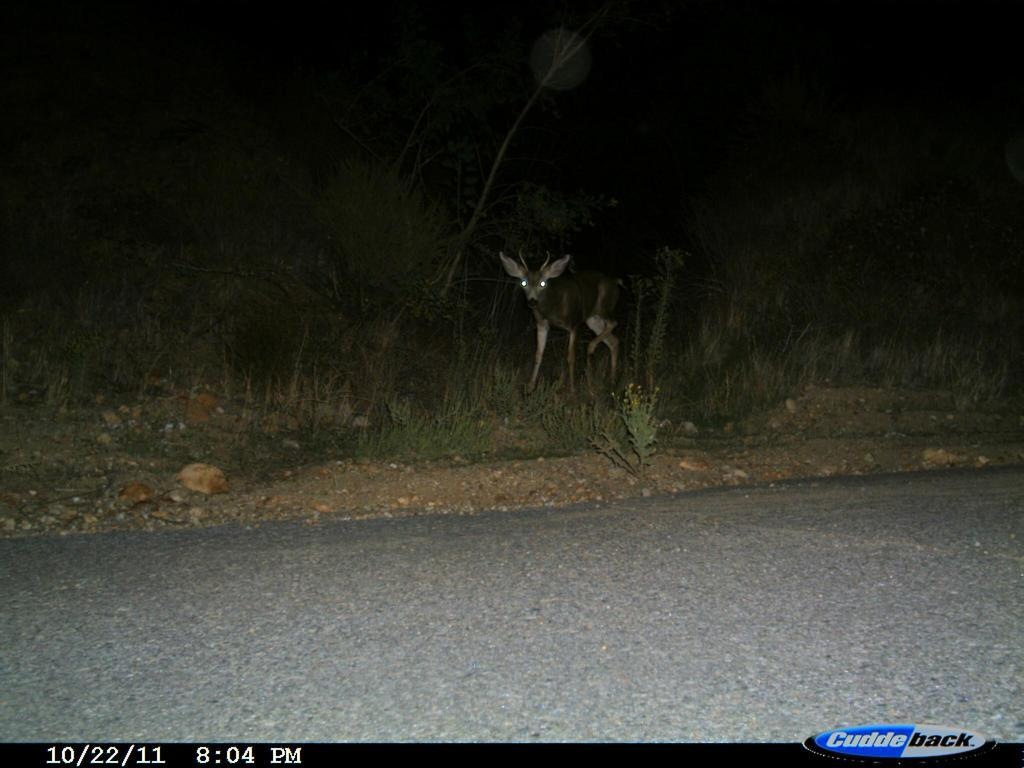deer: (478, 239, 669, 406)
